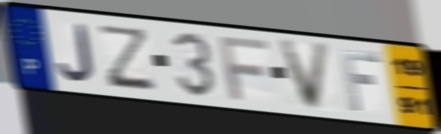3: (166, 30, 217, 99)
F: (216, 34, 271, 103), (338, 47, 383, 114)
J: (56, 22, 97, 85)
V: (277, 39, 333, 112)
Z: (99, 23, 157, 92)
